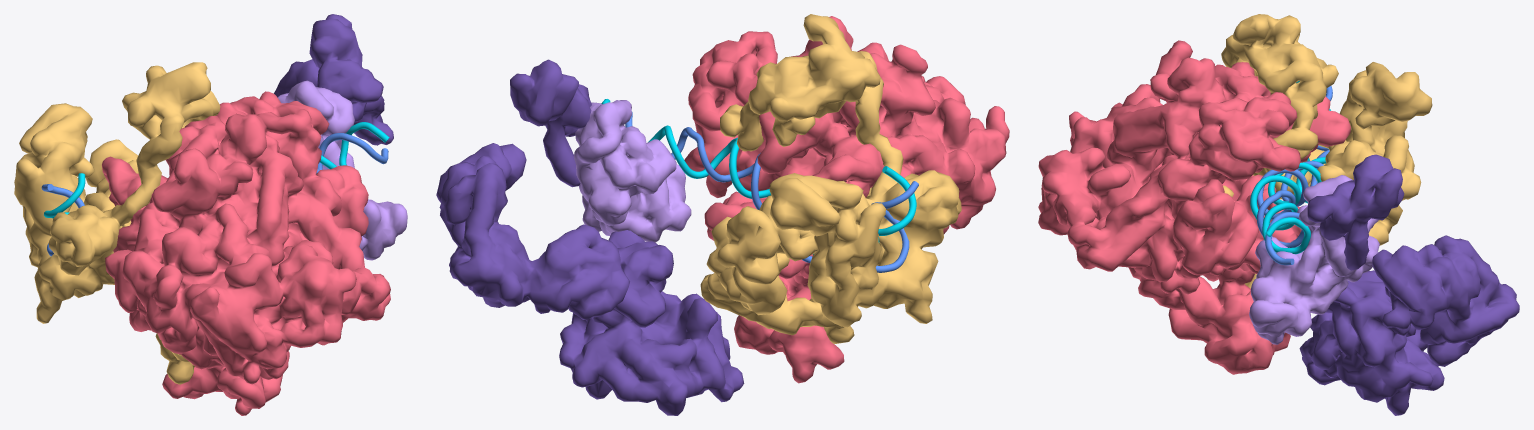
The model's file is pol2-pic-5iy6.glb.
3 views of the same model, side by side, from view 1: azimuth 30°, elevation 25°; view 2: azimuth 150°, elevation 25°; view 3: azimuth 270°, elevation 25° (orthographic). The views are drawn at different scales.
Parts seen in each view (by area): view 1: pic_pol2, pic_factors, pic_tfiih, pic_xpb, pic_dna_a, pic_dna_b; view 2: pic_tfiih, pic_factors, pic_pol2, pic_xpb, pic_dna_a, pic_dna_b; view 3: pic_pol2, pic_tfiih, pic_factors, pic_xpb, pic_dna_a, pic_dna_b.
Part boxes in pixels (x1,y1,x2,y2): pic_pol2: (102,91,390,415); pic_factors: (14,62,220,384); pic_tfiih: (274,14,393,145); pic_xpb: (277,80,407,260); pic_dna_a: (44,122,389,218); pic_dna_b: (41,133,388,256); pic_tfiih: (436,59,744,415); pic_factors: (700,14,961,344); pic_pol2: (684,16,1009,383); pic_xpb: (573,100,691,242); pic_dna_a: (601,99,916,254); pic_dna_b: (625,111,918,272); pic_pol2: (1038,40,1350,374); pic_tfiih: (1299,154,1519,415); pic_factors: (1221,14,1432,288); pic_xpb: (1249,175,1379,344); pic_dna_a: (1250,81,1330,254); pic_dna_b: (1257,86,1332,265).
Size of the model in its own units: 5.07 by 4.08 by 5.32.
